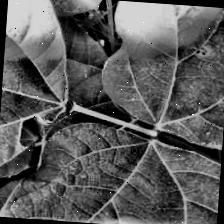ALS: (99, 0, 224, 145), (0, 0, 76, 208)
